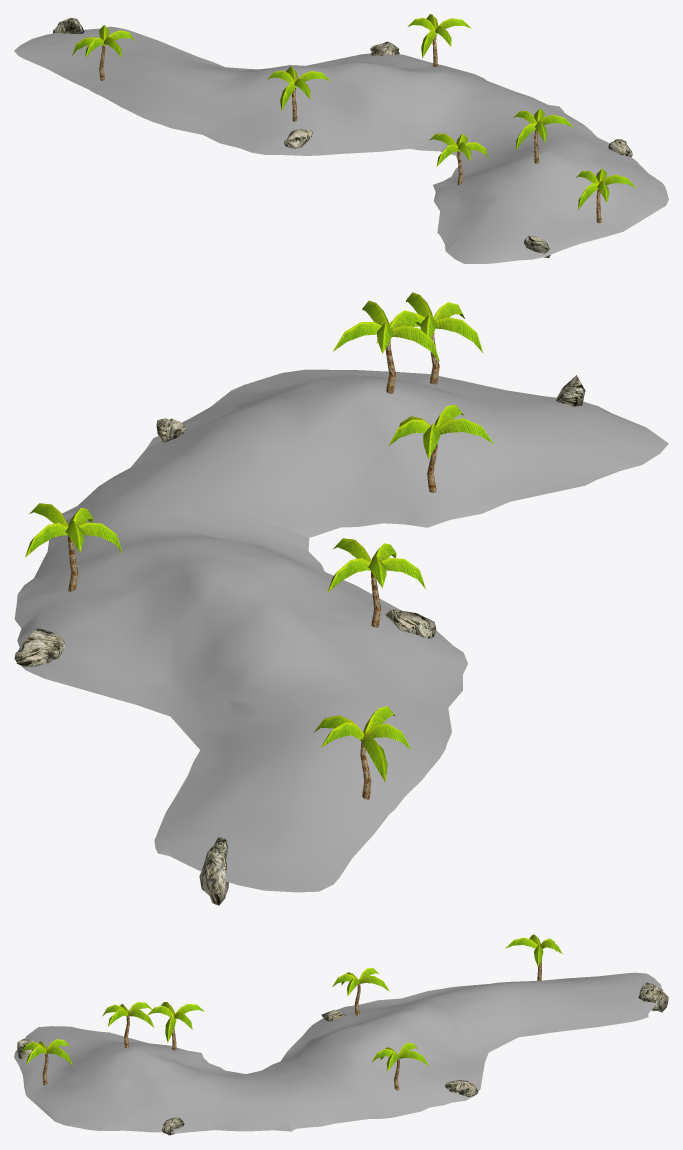
File: desert_island07.fbx
The picture shows the model from 3 angles, top to bottom: view 1: azimuth 30°, elevation 25°; view 2: azimuth 150°, elevation 25°; view 3: azimuth 270°, elevation 25°; orthographic projection. The views are drawn at different scales.
Visible parts, largest first — view 1: desert_island07; view 2: desert_island07; view 3: desert_island07.
Part boxes in pixels (bbox=[...]): desert_island07: bbox=[14, 14, 668, 263]; desert_island07: bbox=[14, 292, 668, 905]; desert_island07: bbox=[14, 934, 668, 1135].
Size of the model in its own units: 0.4705 by 0.1249 by 0.8087.
2 materials, 1 textured.
